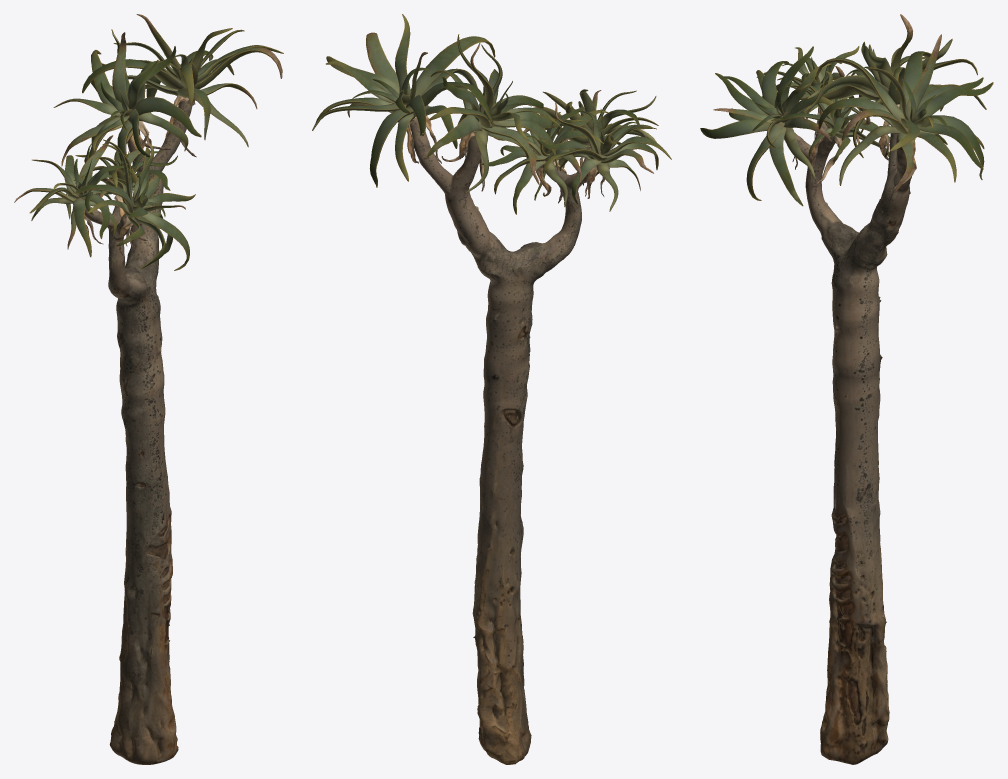
The model's file is quiver_tree_01.gltf.
3 renders of one model, left to right at view 1: azimuth 30°, elevation 25°; view 2: azimuth 150°, elevation 25°; view 3: azimuth 270°, elevation 25°, orthographic. The views are drawn at different scales.
Parts seen in each view (by area): view 1: quiver_tree_01; view 2: quiver_tree_01; view 3: quiver_tree_01.
Boxes of the visible parts, x1,y1,x2,y2 form: quiver_tree_01: [14, 14, 283, 764]; quiver_tree_01: [312, 14, 671, 764]; quiver_tree_01: [700, 14, 993, 764].
Size of the model in its own units: 1.18 by 2.72 by 0.9685.
Materials: 2 (2 with a texture image).
